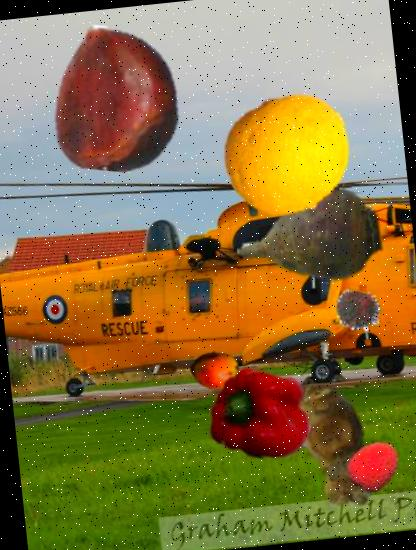Beetroot: (228, 156, 391, 318)
Cantaloupe: (218, 84, 360, 228)
Chestnut: (39, 20, 197, 179)
Ginger: (262, 370, 412, 520)
Lychee: (344, 436, 404, 495)
Papaya: (186, 342, 242, 398)
Pepper: (205, 358, 317, 470)
Rambutan: (331, 282, 389, 340)
